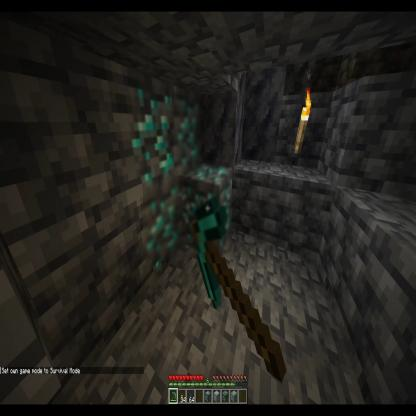diamond ore: (178, 163, 232, 257), (128, 70, 174, 180), (143, 176, 182, 260), (174, 89, 202, 175)
